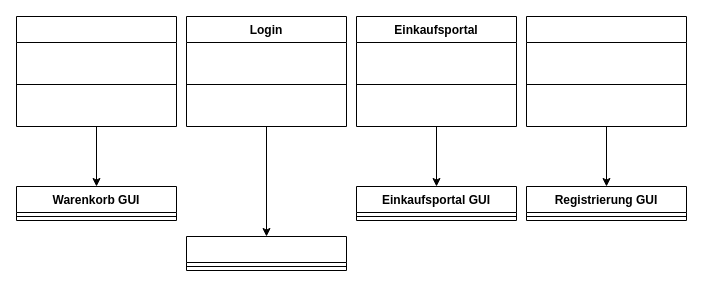
Image size: 703x287. Some labels were removed from this diagram. Each missing label, with the centre of its shape:
"Login GUI" goes at (266,253).
"Registrierung" goes at (606,71).
"Warenkorb" goes at (96,71).
